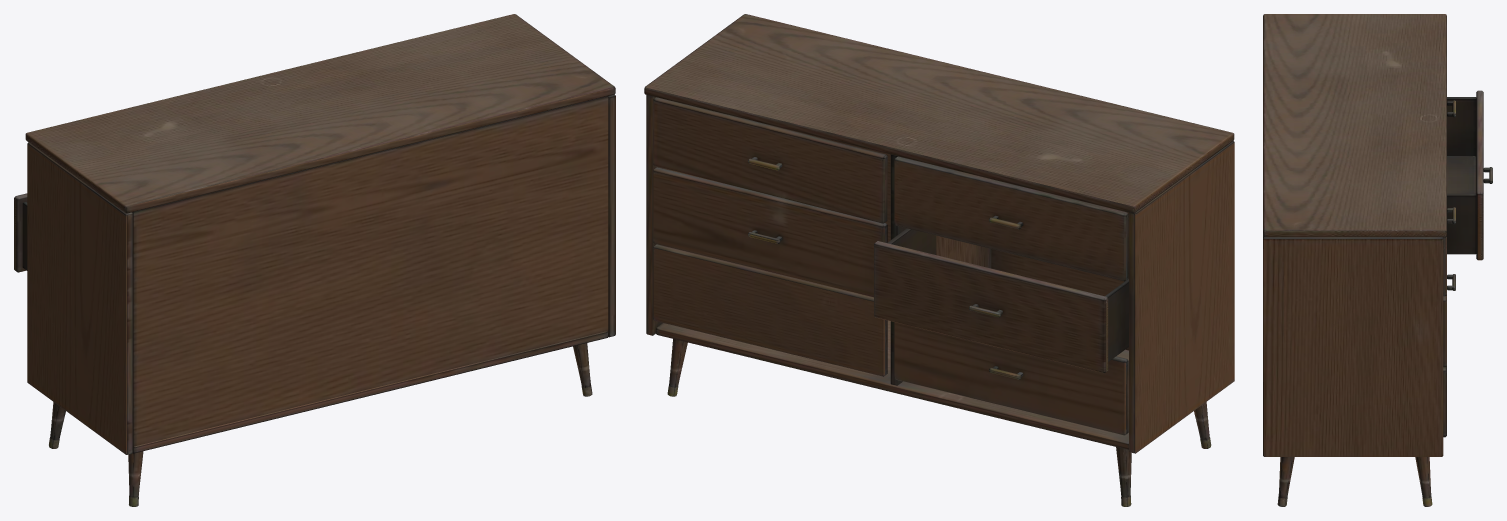
File: furniture_cabinet_low.glb
3 renders of one model, left to right at view 1: azimuth 30°, elevation 25°; view 2: azimuth 150°, elevation 25°; view 3: azimuth 270°, elevation 25°, orthographic. The views are drawn at different scales.
Parts seen in each view (by area): view 1: furniture_cabinet_low; view 2: furniture_cabinet_low; view 3: furniture_cabinet_low.
Boxes of the visible parts, x1,y1,x2,y2 form: furniture_cabinet_low: (14, 14, 615, 506); furniture_cabinet_low: (644, 14, 1234, 506); furniture_cabinet_low: (1263, 14, 1492, 506).
Size of the model in its own units: 1.4 by 0.8507 by 0.625.
Materials: 1 (1 with a texture image).
